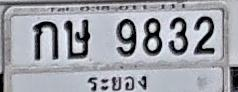2: (194, 15, 214, 54)
3: (168, 16, 188, 55)
8: (142, 17, 161, 55)
9: (116, 18, 136, 56)
A01: (32, 20, 58, 60)
A39: (64, 19, 90, 59)
RYG: (86, 72, 148, 92)
